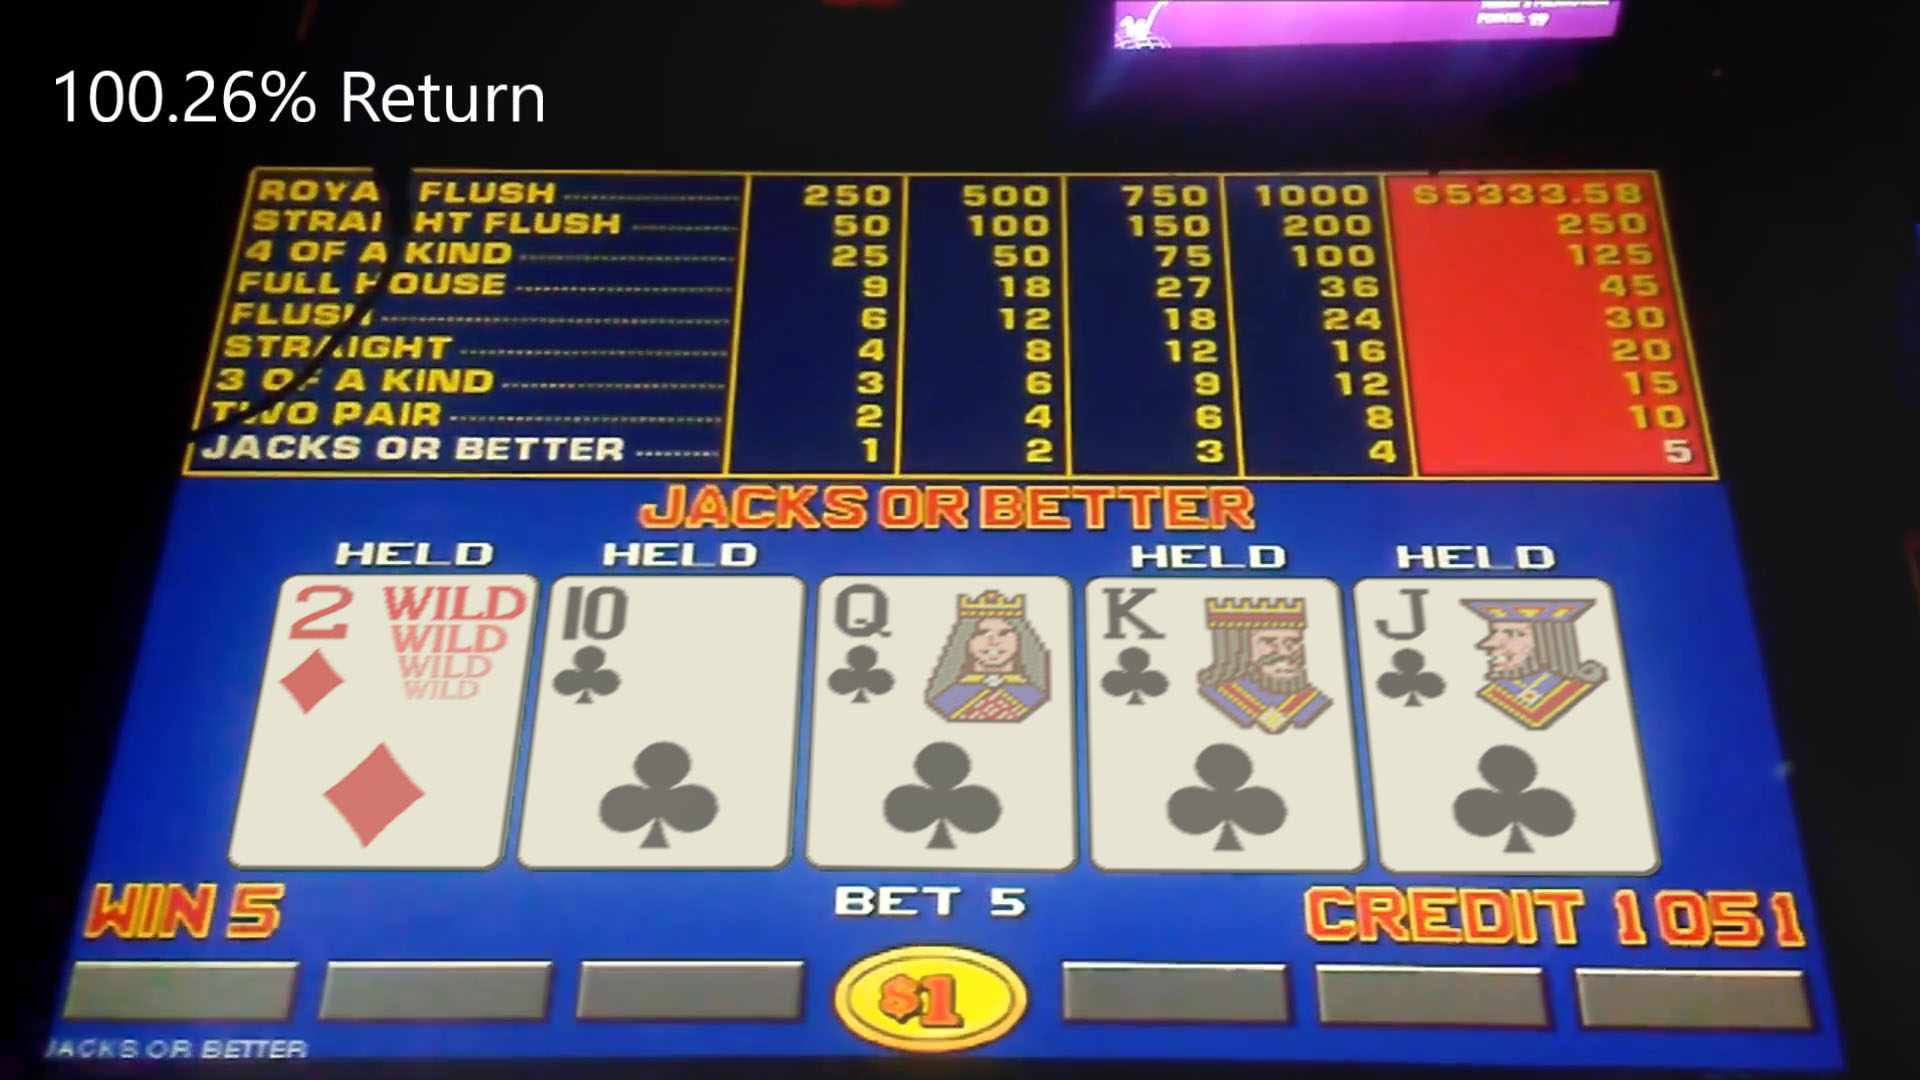CJ: (1370, 582, 1611, 724)
CK: (1091, 580, 1338, 725)
CQ: (822, 576, 1068, 731)
CT: (553, 578, 793, 735)
D2W: (276, 576, 518, 727)
